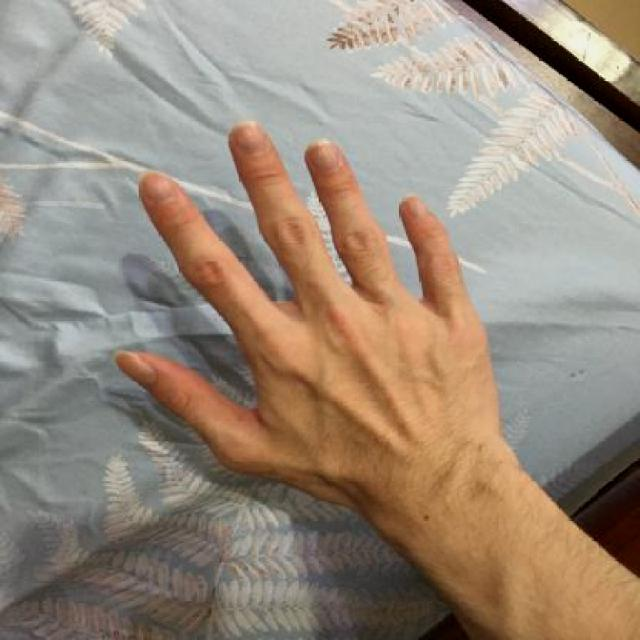no_glove: (110, 109, 512, 528)
